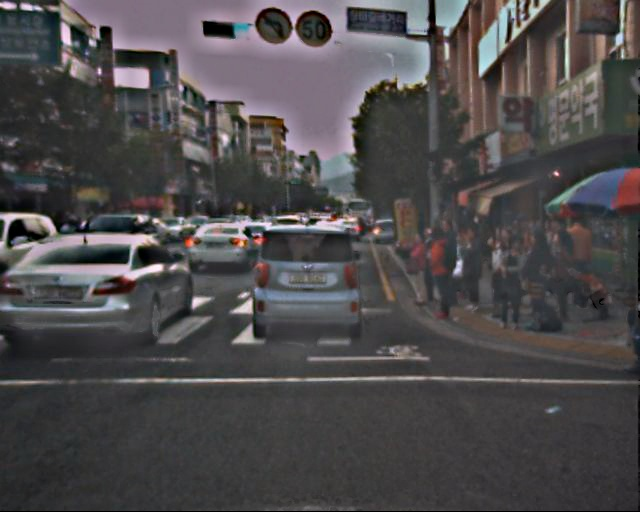person: (421, 225, 461, 322), (492, 234, 530, 327), (541, 234, 577, 321), (562, 218, 597, 304), (453, 226, 487, 309), (431, 214, 465, 296), (539, 217, 572, 297), (521, 233, 553, 310), (404, 232, 434, 305)
